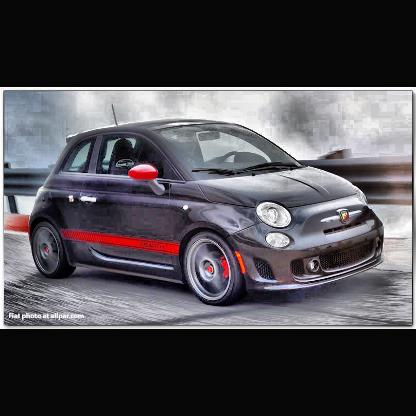FIAT 500 Abarth 2012: (27, 101, 387, 307)
